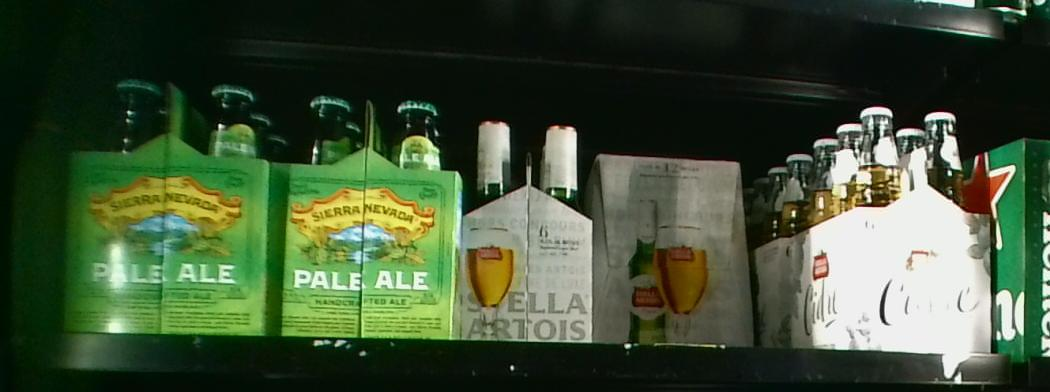bottle: (60, 70, 277, 328), (278, 89, 461, 334), (849, 104, 992, 347), (594, 152, 752, 346), (464, 112, 589, 342)
